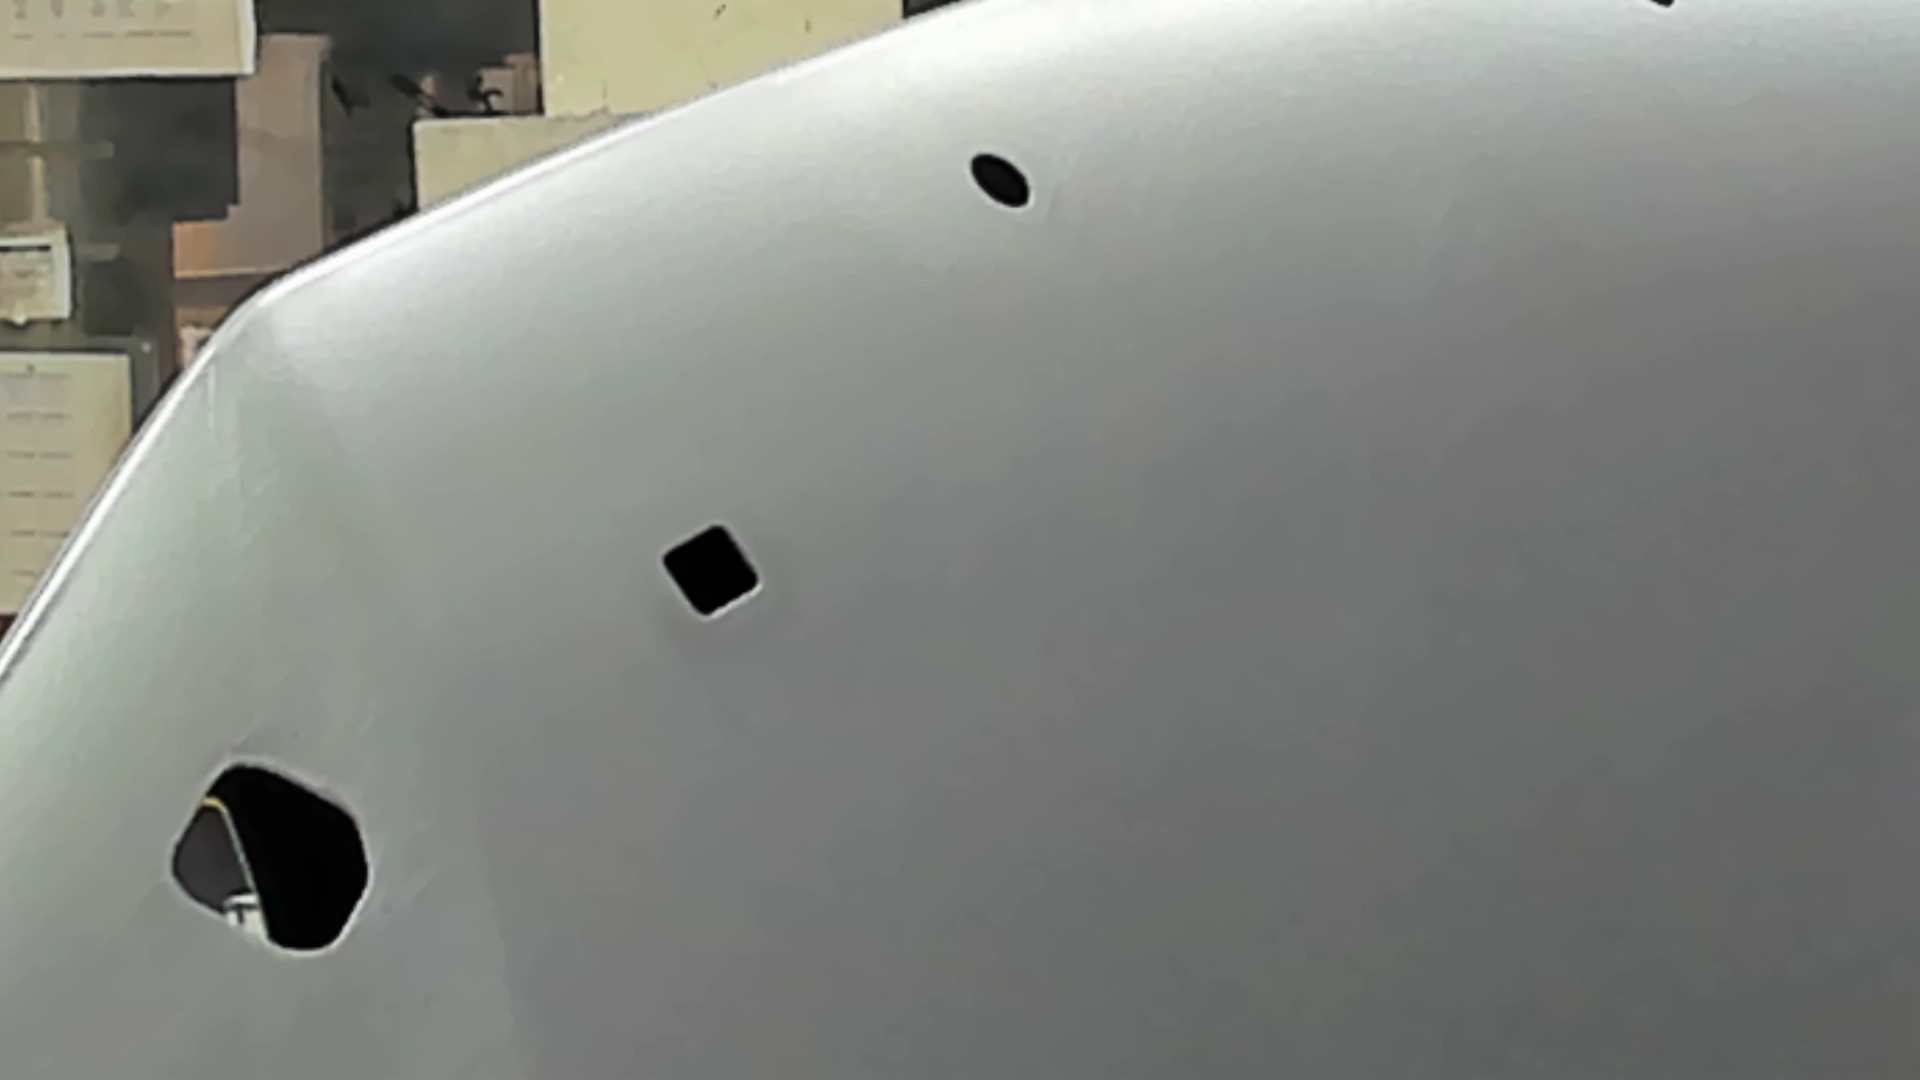chico: (963, 148, 1036, 212), (1647, 1, 1683, 11)
grande: (164, 753, 375, 960)
mediano: (654, 522, 764, 628)
